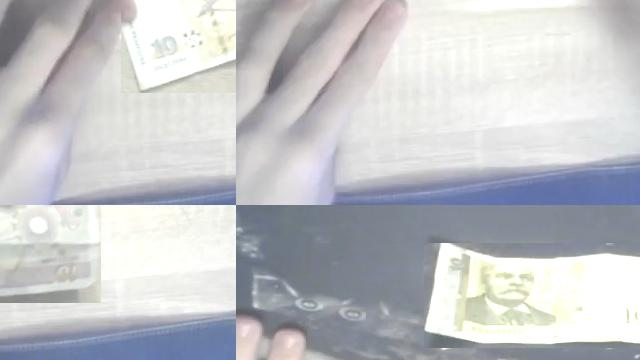10leva: (424, 243, 640, 346)
